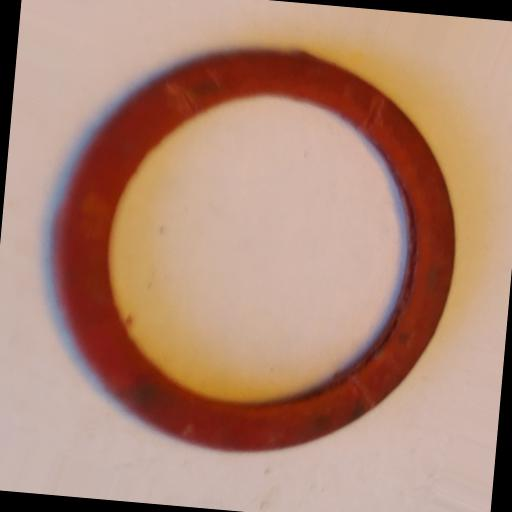defect: (164, 80, 198, 112), (347, 378, 375, 410), (363, 93, 384, 128)
